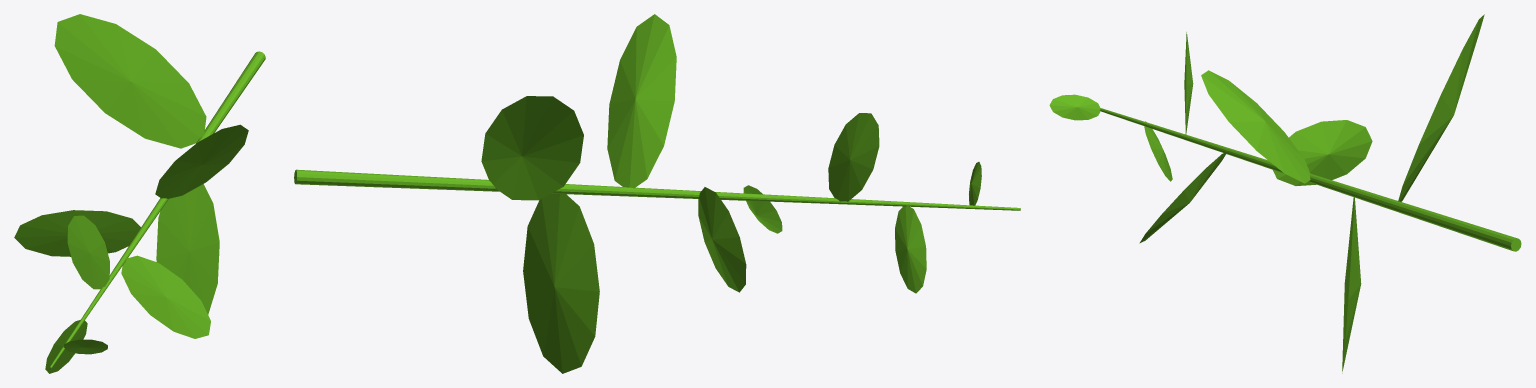
3 renders of one model, left to right at view 1: azimuth 30°, elevation 25°; view 2: azimuth 150°, elevation 25°; view 3: azimuth 270°, elevation 25°, orthographic. The views are drawn at different scales.
Bounding box in the file's own units: 0.2423 × 0.1623 × 0.2132.
